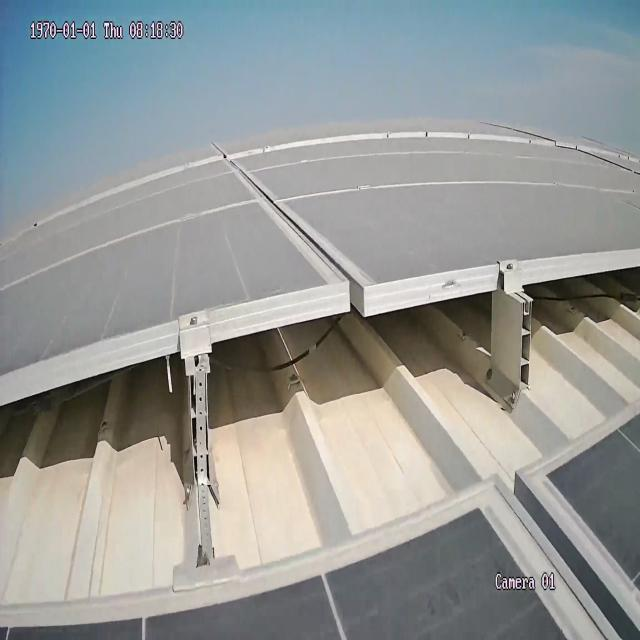interior panel: (487, 482, 640, 633), (226, 167, 357, 272)
outher panel: (1, 250, 637, 612)
